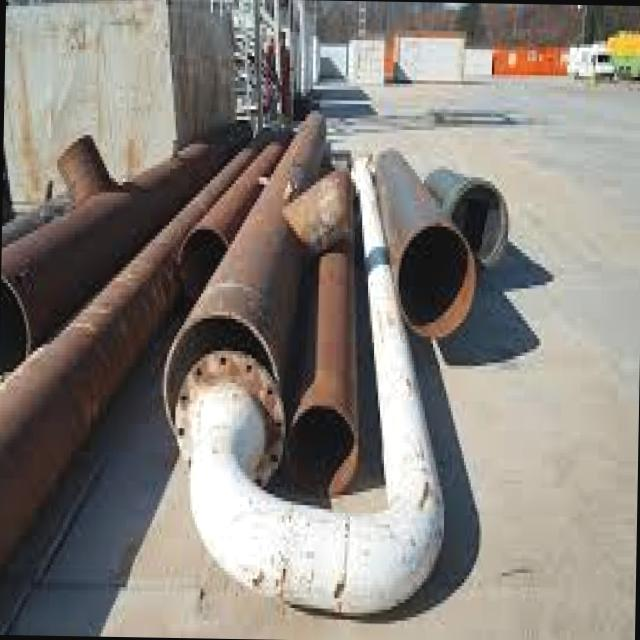gas: (189, 158, 443, 615), (0, 146, 255, 564), (163, 115, 320, 422), (365, 154, 470, 335), (178, 143, 282, 307), (295, 250, 353, 475), (293, 425, 331, 484)
